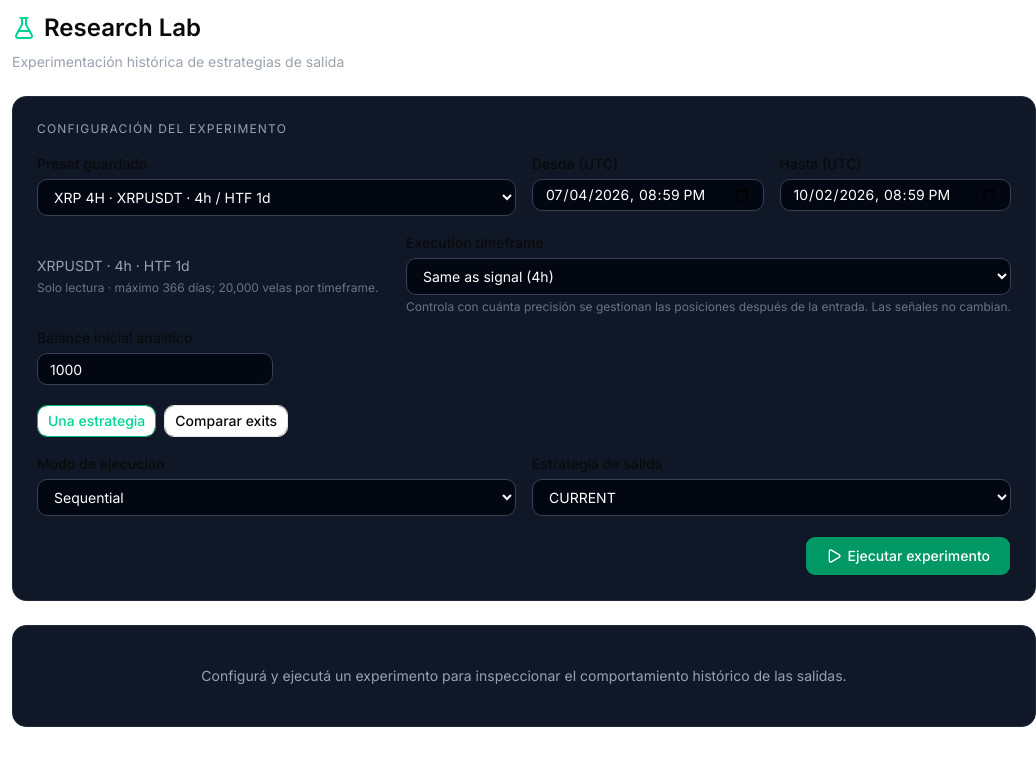
Scenario: Execution timeframe selector › explains that signals stay on the signal timeframe
This screenshot has width=1036, height=780.
Expected: the dropdown labelled "Preset guardado" is shown, [37,179,516,216]
Expected: the text "Controla con cuánta precisión se gestionan las posiciones después de la entrada" is shown, [406,299,1011,314]
Select "15m" in the dropdown labelled "Execution timeframe" at {"x": 708, "y": 276}, box [406,258,1011,295]
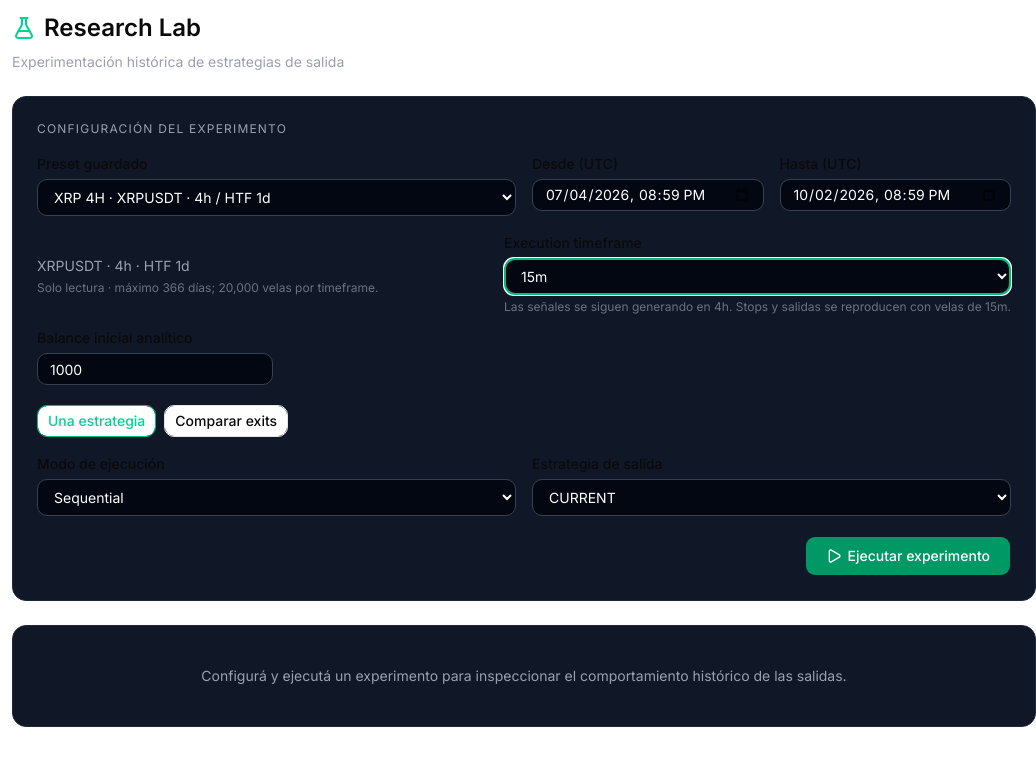
Result: the text "Las señales se siguen generando en 4h. Stops y salidas se reproducen con velas de 15m." is shown at [504,299,1011,314]
